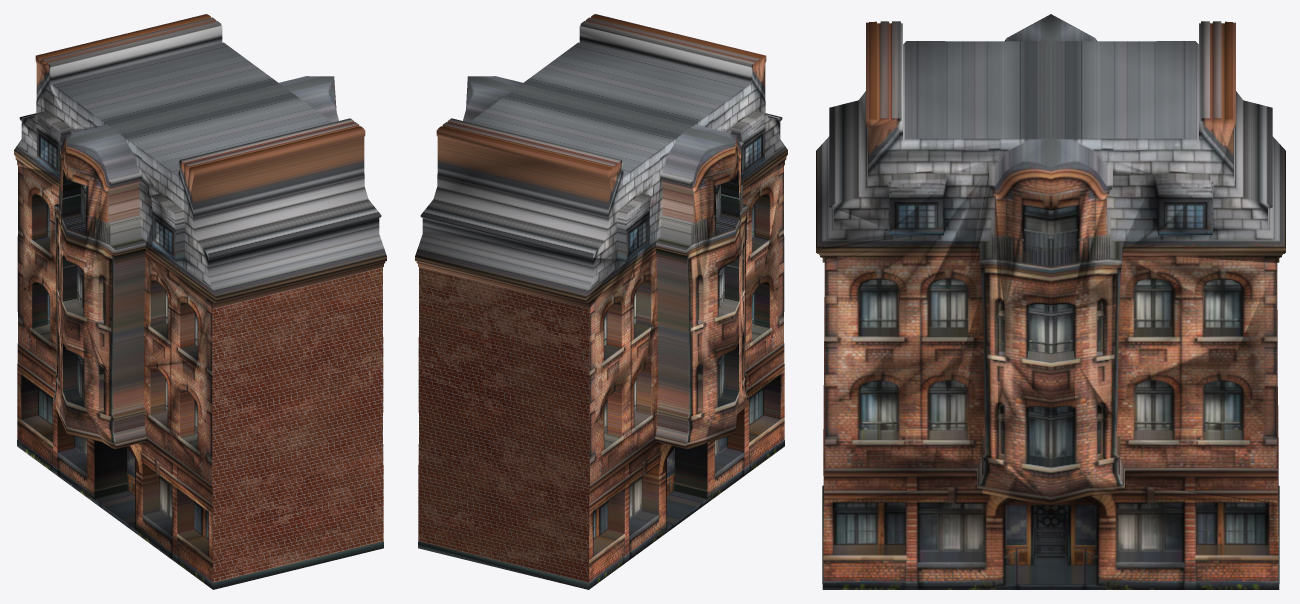
Rendered from yan.fbx.
The picture shows the model from 3 angles, left to right: view 1: azimuth 30°, elevation 25°; view 2: azimuth 150°, elevation 25°; view 3: azimuth 270°, elevation 25°; orthographic projection. The views are drawn at different scales.
Visible parts, largest first — view 1: BezierCurve, BezierCurve.001; view 2: BezierCurve, BezierCurve.001; view 3: BezierCurve, BezierCurve.001.
Boxes of the visible parts, box(x1,y1,x2,y2) form: BezierCurve: box(14, 14, 386, 589); BezierCurve.001: box(212, 267, 383, 582); BezierCurve: box(415, 14, 787, 589); BezierCurve.001: box(418, 267, 589, 582); BezierCurve: box(816, 14, 1285, 589); BezierCurve.001: box(823, 263, 1278, 533).
Size of the model in its own units: 585 by 848 by 765.
2 materials, 2 textured.
